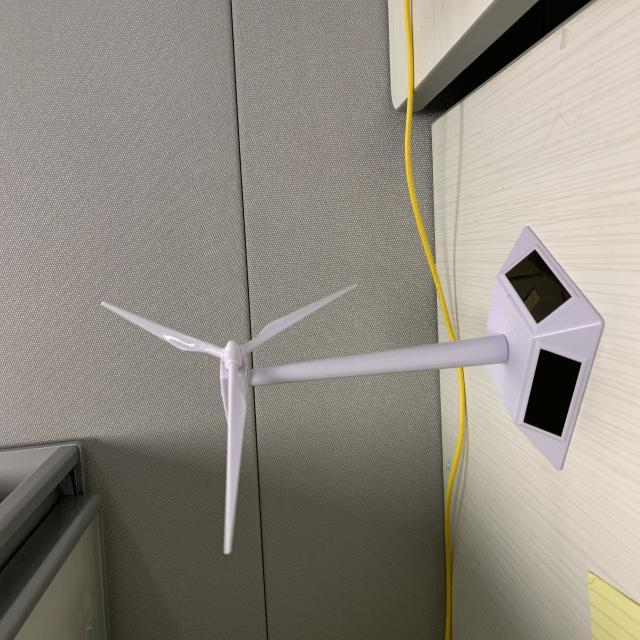solid-blade: (246, 286, 358, 352), (101, 301, 224, 357), (224, 376, 246, 554)
